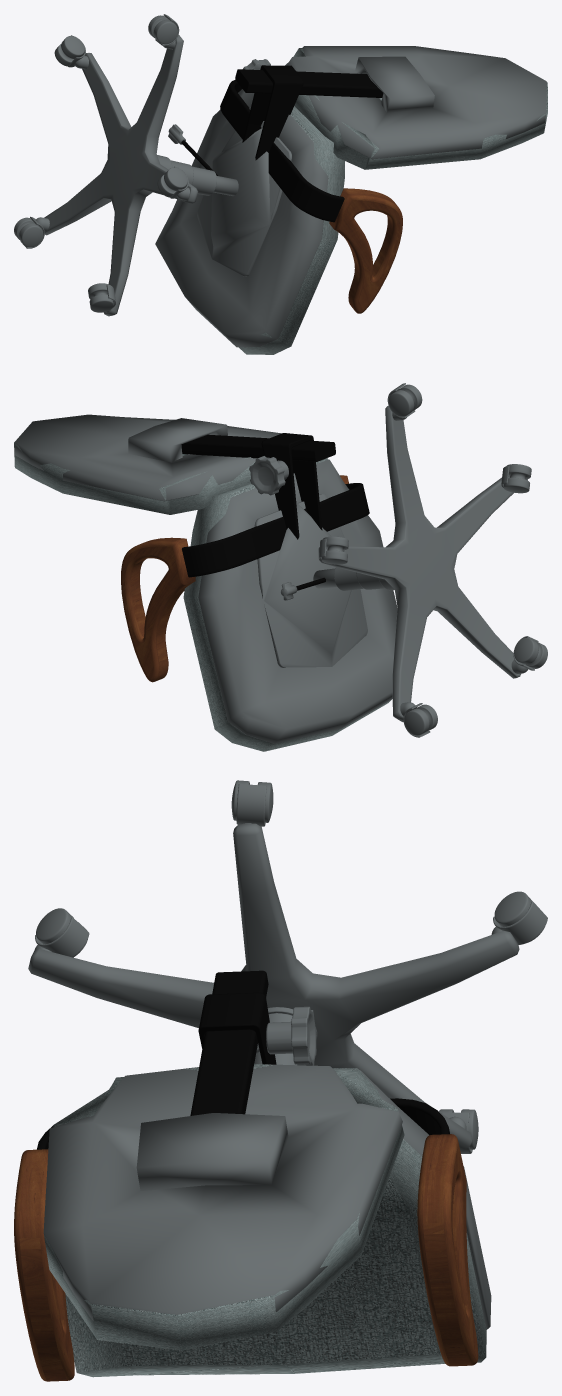
Rendered from office-chair3.glb.
3 views of the same model, one above another, from view 1: azimuth 30°, elevation 25°; view 2: azimuth 150°, elevation 25°; view 3: azimuth 270°, elevation 25° (orthographic). The views are drawn at different scales.
Parts seen in each view (by area): view 1: Низ_сидения, Низ_сидения_3, Cylinder, Низ_сидения_2, Cube_2, Cube.001, Симметрия_1, Extrude_NURBS_2, Стойка_спинки, Закругление_1, Шапка_1, Cone (+6 smaller); view 2: Низ_сидения_3, Cylinder, Низ_сидения, Низ_сидения_2, Симметрия_1, Cube_2, Cube.001, Extrude_NURBS_2, Закругление_1, Стойка_спинки, Шапка_1, Выдавливание (+7 smaller); view 3: Низ_сидения, Cube_2, Cylinder, Cube.001, Выдавливание, Стойка_спинки, Закругление_1, Закругление_2, Extrude_NURBS_2, Низ_сидения_3, Ручка, Симметрия_1 (+6 smaller).
Part boxes in pixels (box(x1,y1,x2,y2)): Низ_сидения: box(287, 46, 546, 159); Низ_сидения_3: box(155, 89, 328, 347); Cylinder: box(44, 34, 198, 316); Низ_сидения_2: box(197, 107, 291, 276); Cube_2: box(239, 106, 344, 354); Cube.001: box(285, 48, 547, 169); Симметрия_1: box(220, 80, 344, 222); Extrude_NURBS_2: box(242, 65, 303, 160); Стойка_спинки: box(235, 69, 383, 97); Закругление_1: box(334, 194, 402, 313); Шапка_1: box(340, 200, 400, 311); Cone: box(157, 155, 238, 195); Низ_сидения_3: box(198, 459, 397, 743); Cylinder: box(318, 405, 520, 721); Низ_сидения: box(15, 414, 281, 501); Низ_сидения_2: box(254, 494, 367, 667); Симметрия_1: box(182, 483, 369, 577); Cube_2: box(183, 458, 391, 751); Cube.001: box(14, 427, 255, 514); Extrude_NURBS_2: box(261, 433, 322, 539); Закругление_1: box(121, 475, 348, 682); Стойка_спинки: box(181, 434, 335, 461); Шапка_1: box(122, 546, 180, 678); Выдавливание: box(131, 475, 347, 681); Низ_сидения: box(43, 1064, 402, 1320); Cube_2: box(65, 1068, 486, 1377); Cylinder: box(28, 823, 519, 1151); Cube.001: box(44, 1063, 404, 1350); Выдавливание: box(19, 1134, 470, 1381); Стойка_спинки: box(190, 970, 268, 1115); Закругление_1: box(14, 1134, 478, 1381); Закругление_2: box(40, 1135, 450, 1380); Extrude_NURBS_2: box(198, 992, 276, 1064); Низ_сидения_3: box(109, 1070, 491, 1329); Ручка: box(266, 1006, 316, 1065); Симметрия_1: box(37, 1098, 449, 1149).
Bounding box in the file's own units: 1.44 × 0.9619 × 0.8412.
Materials: 5 (3 with a texture image).
